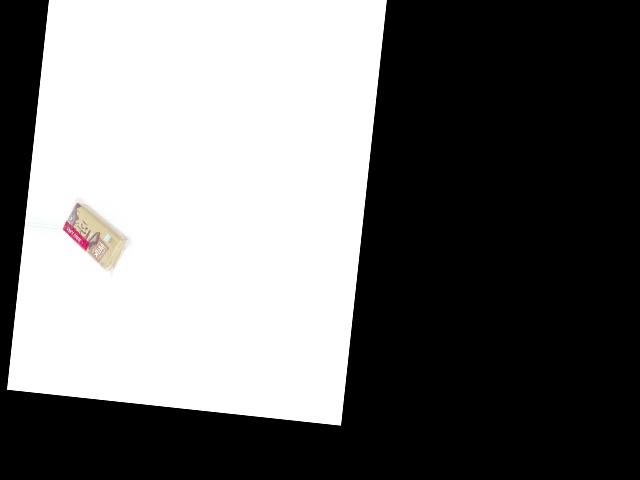chocolate: (59, 200, 133, 280)
